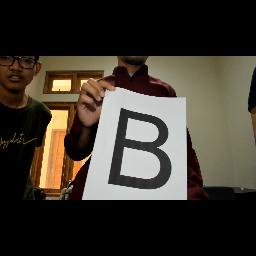b: (105, 104, 177, 192)
